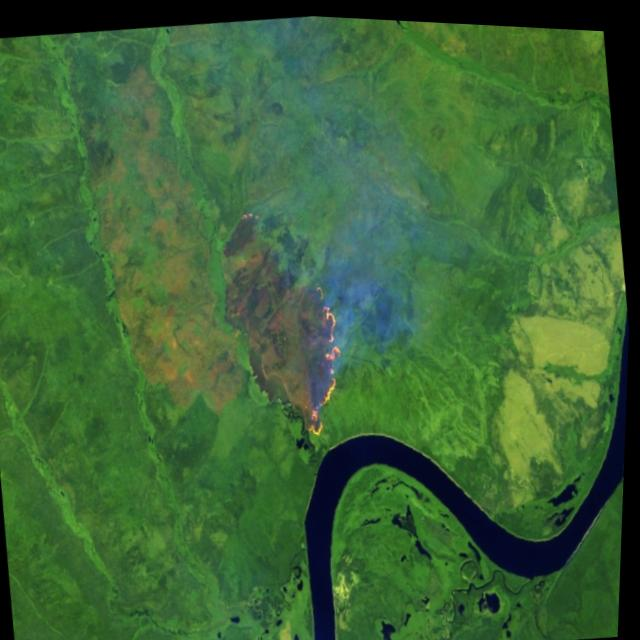fire: (290, 273, 358, 441), (237, 196, 265, 223)
